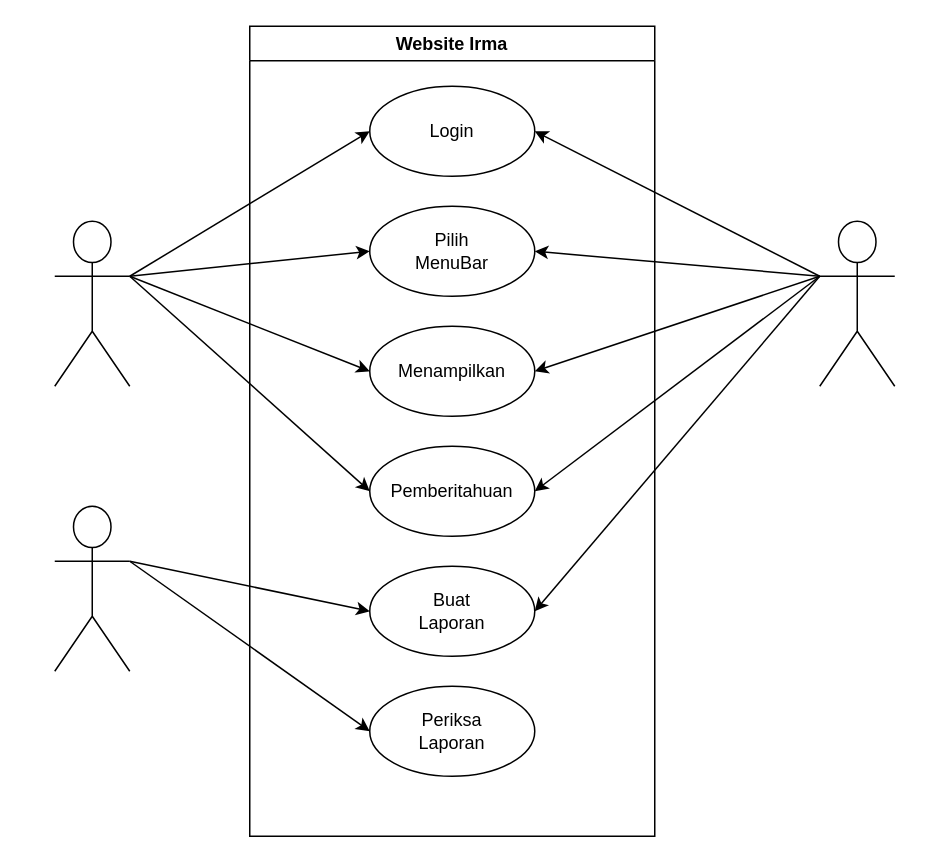
This 942x863 diagram has some shape labels left out. The centre of each missing label's shape, as x and y in pixels:
"Jamaah Masjid" belongs at [91,303].
"Pengurus Masjid" belongs at [91,588].
"Remaja Masjid" belongs at [856,303].
